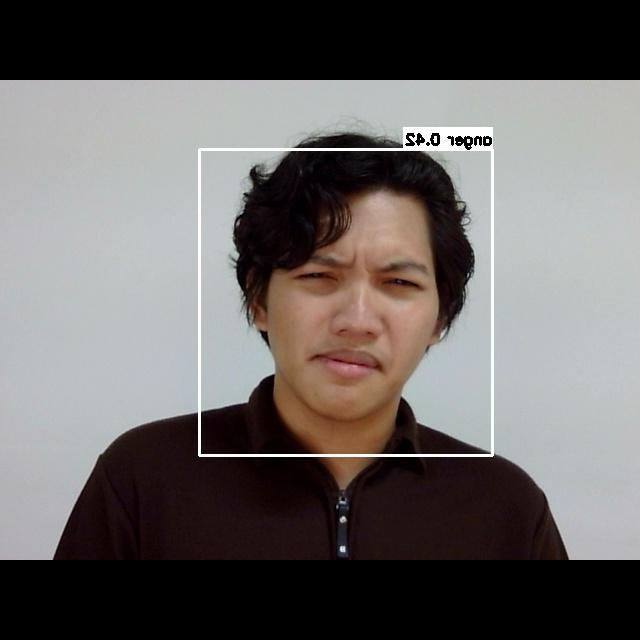Disgust: (254, 206, 449, 406)
